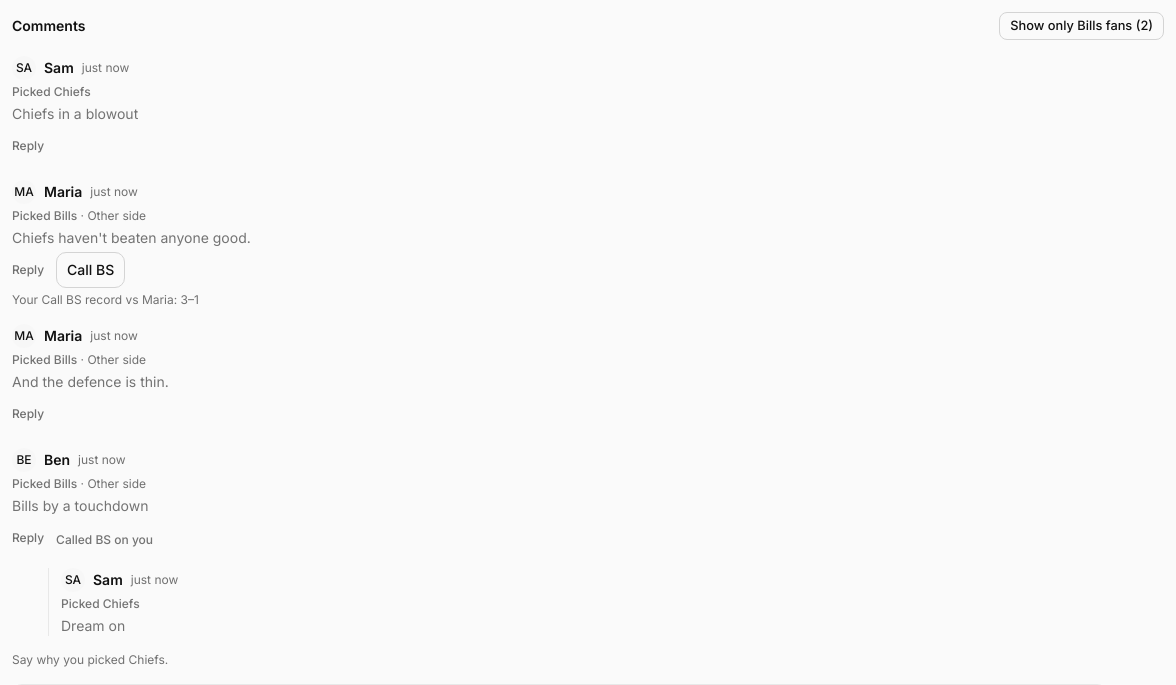
PostConversation — side-aware › lets the viewer show only the other side's threads, without hiding anything permanently
Expected: the text "Chiefs in a blowout" is shown, [12, 105, 138, 122]
Click the button "Show only Bills fans (2)" at (1082, 26), box [999, 12, 1164, 40]
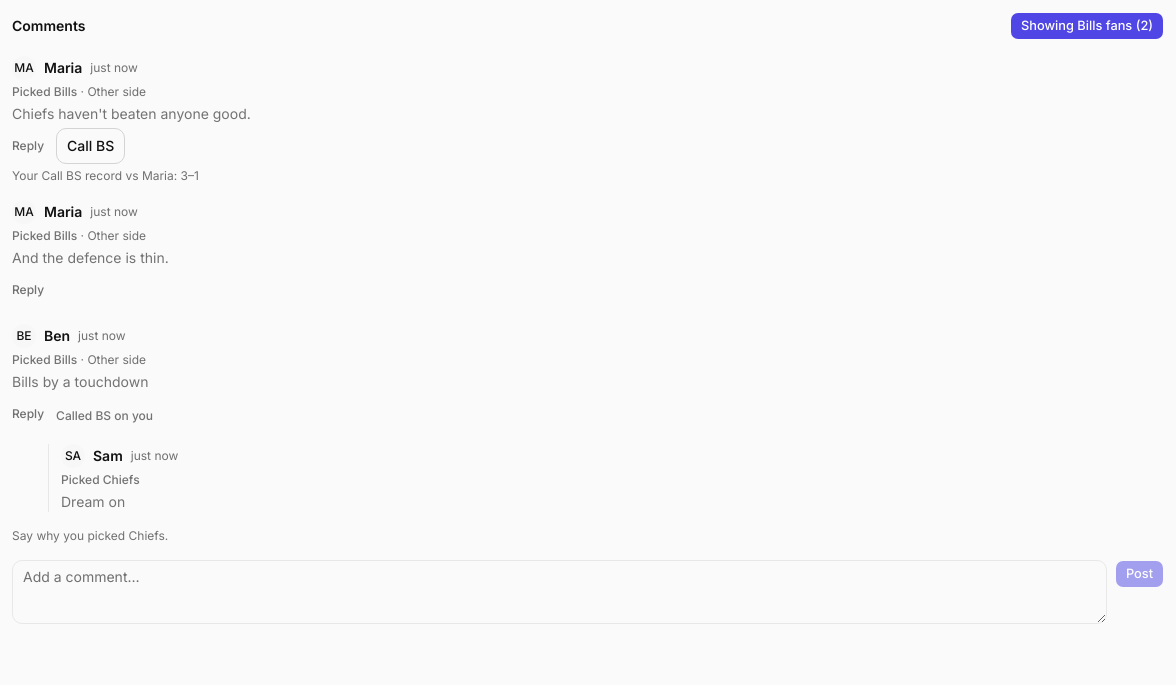
Expected: the text "Chiefs haven't beaten anyone good." is shown, [12, 105, 251, 122]
Expected: the text "Chiefs in a blowout" is gone
Click the button "Showing Bills fans (2)" at (1087, 26), box [1010, 12, 1164, 40]
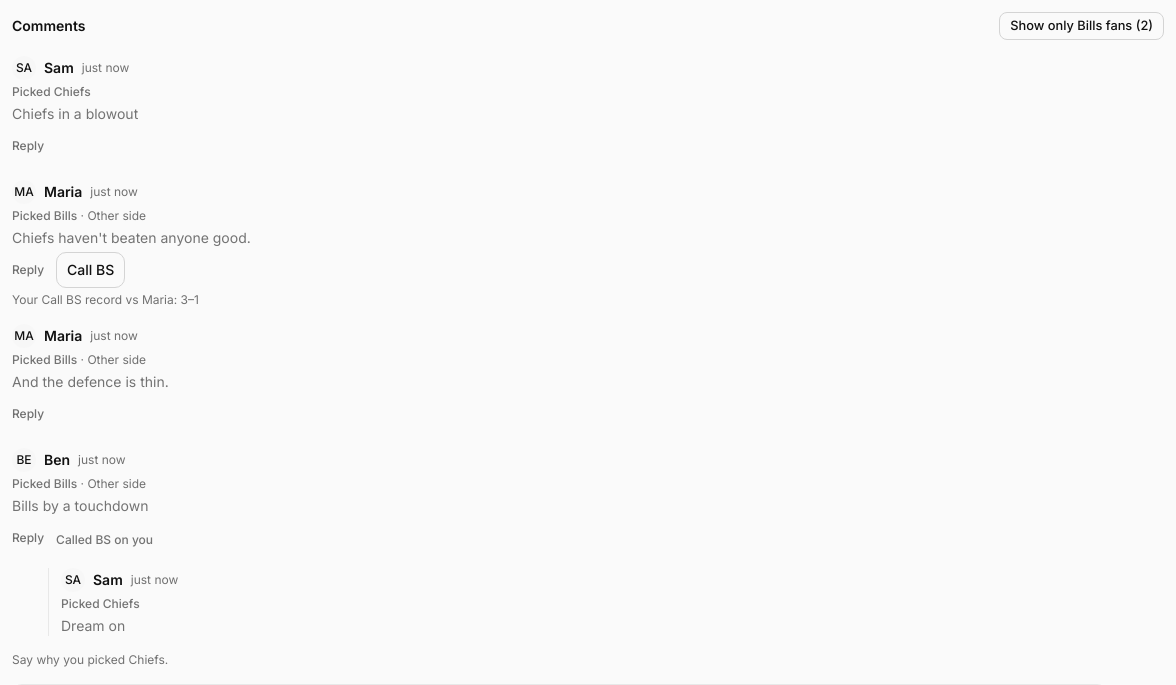
Expected: the text "Chiefs in a blowout" is shown, [12, 105, 138, 122]
